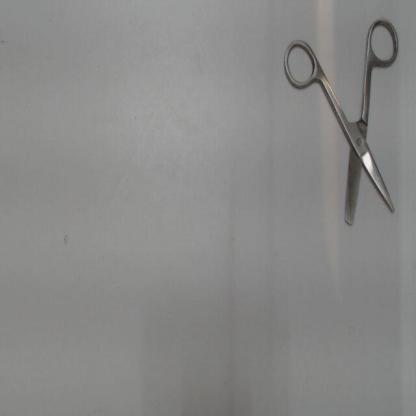Dressing Scissors: (274, 8, 404, 234)
